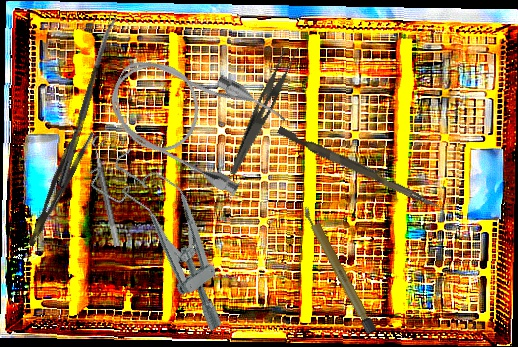Cannula: (94, 33, 291, 202)
Dressing Forceps: (229, 39, 302, 182)
Fixation Ring: (90, 133, 130, 248)
Pusher: (275, 126, 443, 210)
Scalpel Handle: (300, 203, 378, 336)
Speculum: (84, 135, 258, 340)
Surgical Spoon: (57, 13, 118, 189)
Tissue Forceps: (17, 125, 96, 248)
